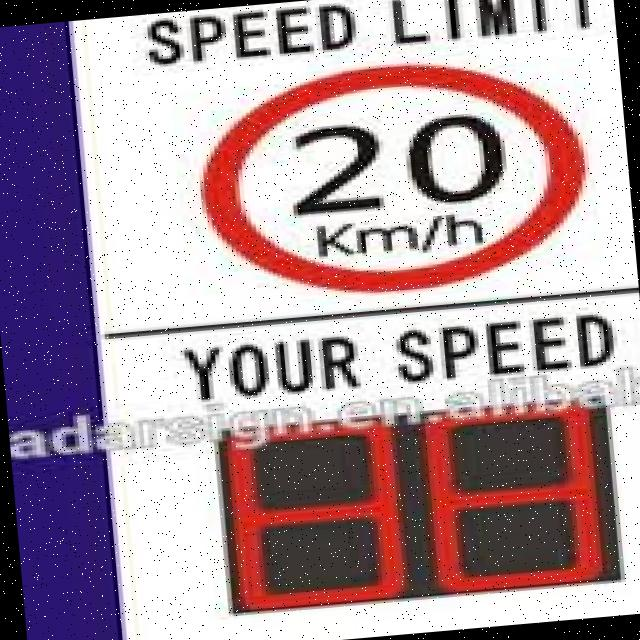speed_limit_20: (179, 45, 614, 308)
